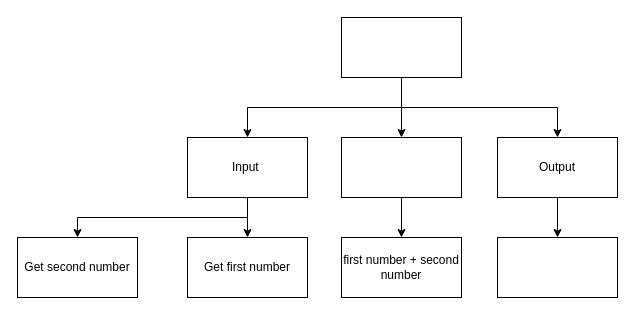
The diagram is 635 pixels wide and 315 high, and some of its shapes have lost their labels. The shapes that lost their labels are listed below. From the top down, each one's centre as x and y in pixels, then its label:
At point 401,47: "Sum of two numbers".
At point 401,167: "Process".
At point 557,267: "answer = sum".
